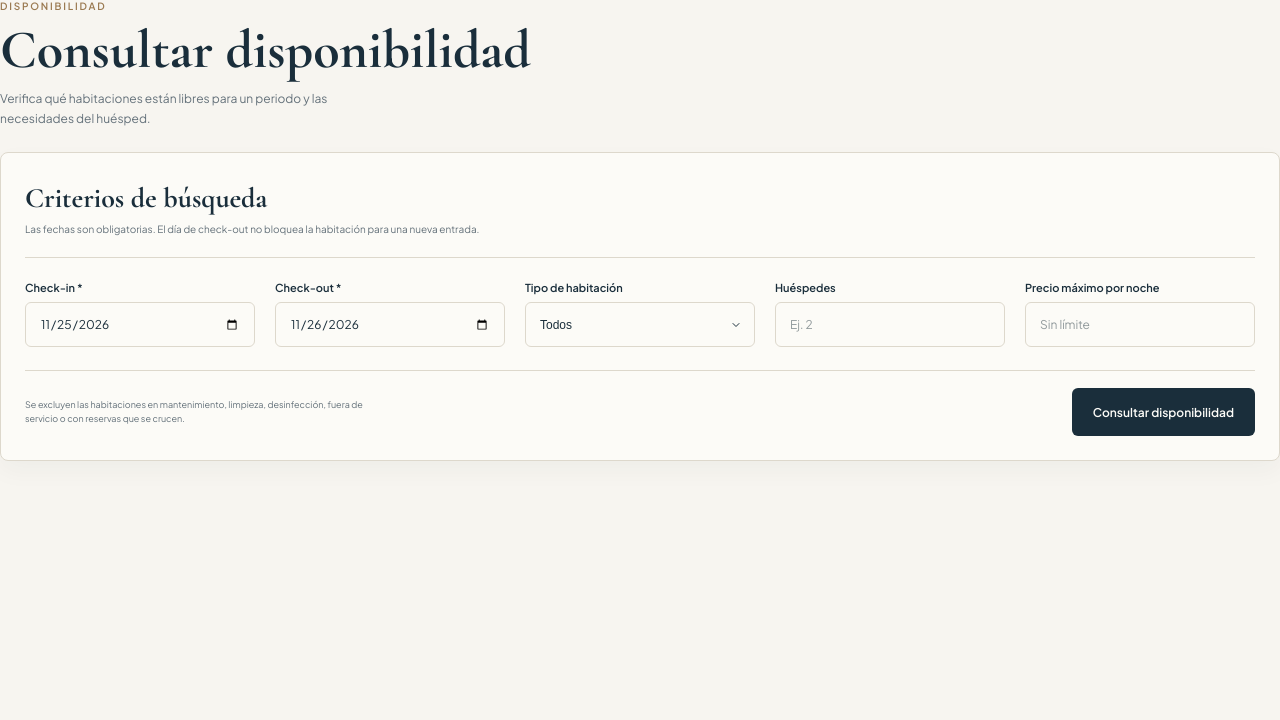
Test case: AvailabilityPage › muestra un estado vacío cuando no existen coincidencias
The width and height of the screenshot is (1280, 720).
Click the button "Consultar disponibilidad" at (1163, 412), box [1072,388,1255,436]
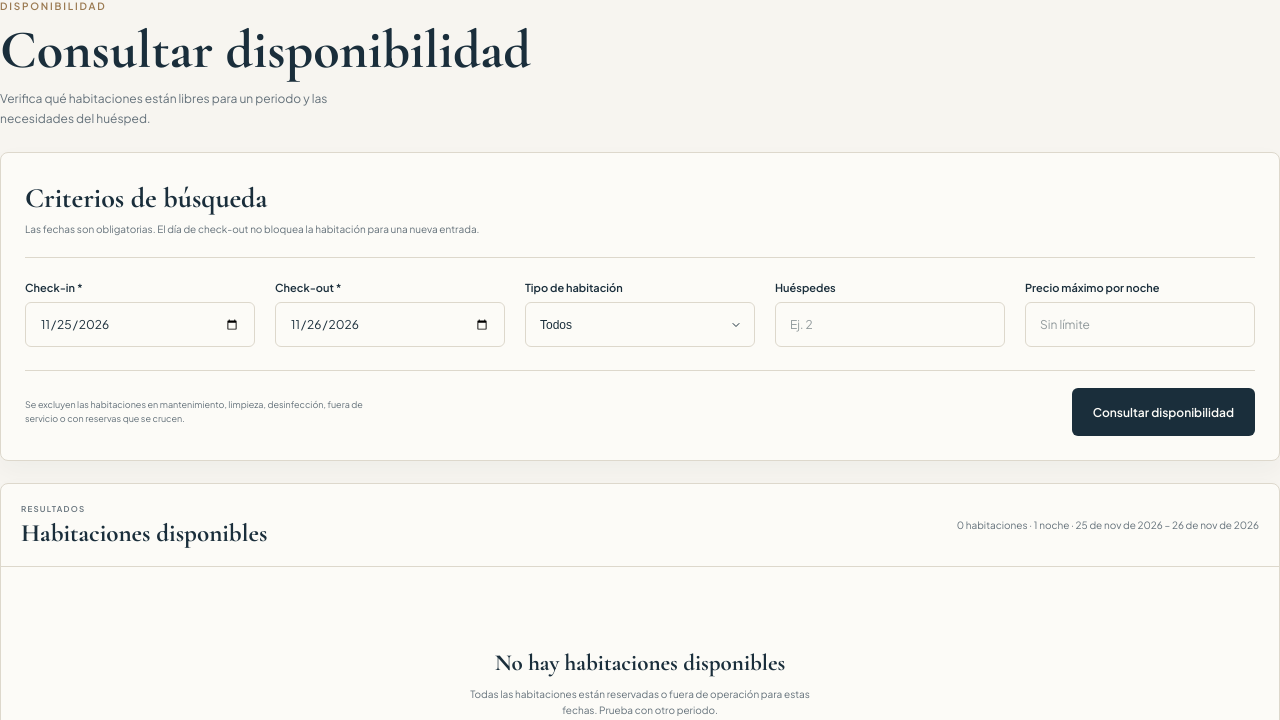
Now the text "No hay habitaciones disponibles" is shown, box [495,650,785,678]
